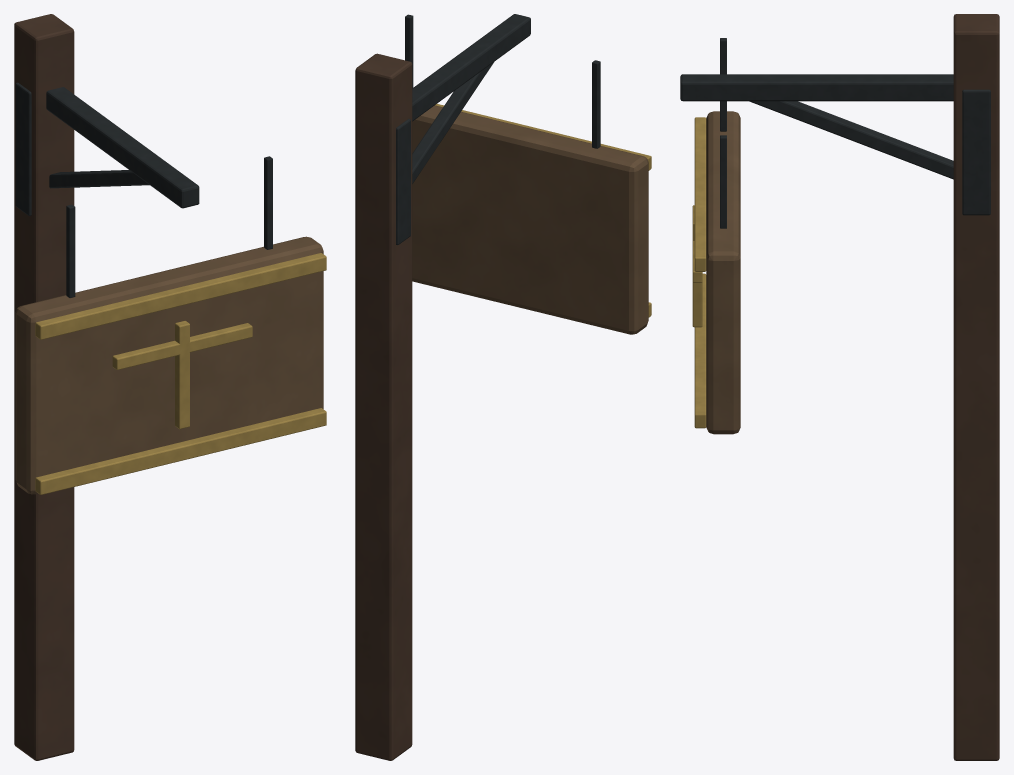
The model's file is Shop_Sign.fbx.
3 views of the same model, side by side, from view 1: azimuth 30°, elevation 25°; view 2: azimuth 150°, elevation 25°; view 3: azimuth 270°, elevation 25° (orthographic). The views are drawn at different scales.
Parts seen in each view (by area): view 1: Shop_Sign; view 2: Shop_Sign; view 3: Shop_Sign.
Part boxes in pixels (box(x1,y1,x2,y2)): Shop_Sign: box(14, 14, 326, 760); Shop_Sign: box(355, 14, 651, 760); Shop_Sign: box(680, 14, 999, 760).
Size of the model in its own units: 1.2 by 2.8 by 1.11.
